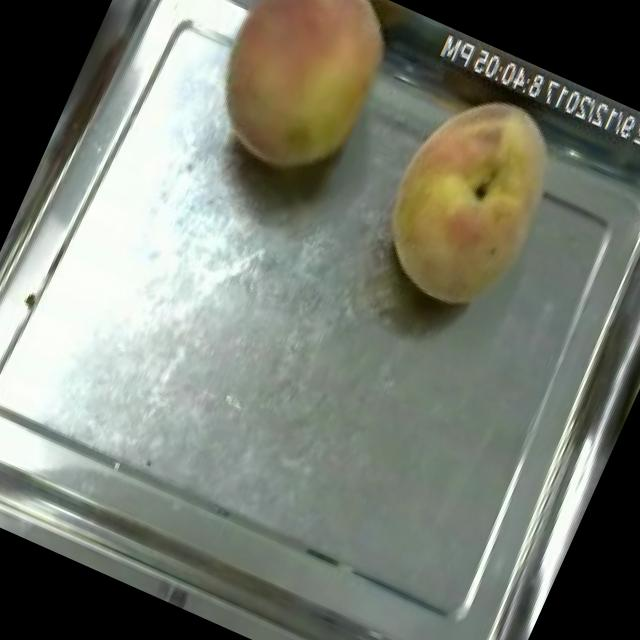Fruit: (348, 62, 592, 337), (179, 0, 424, 206)
